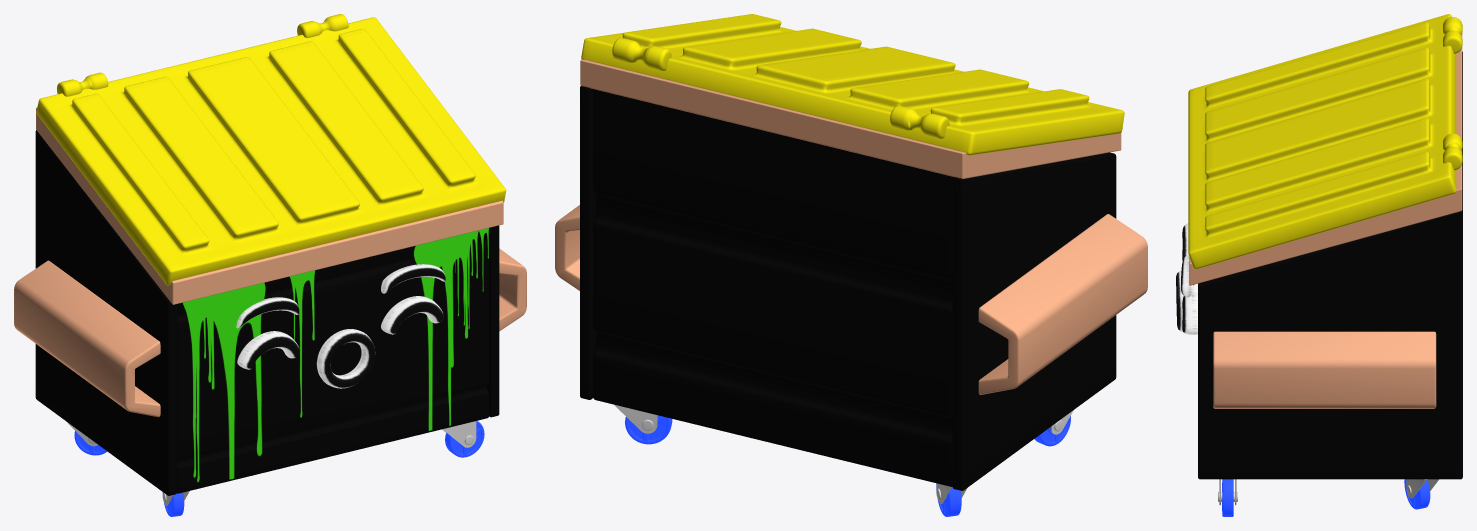
3 renders of one model, left to right at view 1: azimuth 30°, elevation 25°; view 2: azimuth 150°, elevation 25°; view 3: azimuth 270°, elevation 25°, orthographic. The views are drawn at different scales.
Parts seen in each view (by area): view 1: Dumpster Geometry, Wheel Holder; view 2: Dumpster Geometry, Wheel Holder; view 3: Dumpster Geometry, Wheel Holder.
Part boxes in pixels (<box>): Dumpster Geometry: <box>14,14,526,516</box>; Wheel Holder: <box>67,421,476,505</box>; Dumpster Geometry: <box>555,14,1147,516</box>; Wheel Holder: <box>614,404,1073,503</box>; Dumpster Geometry: <box>1176,14,1462,516</box>; Wheel Holder: <box>1218,479,1438,505</box>.
Size of the model in its own units: 2.31 by 1.97 by 1.43.
9 materials, 4 textured.
